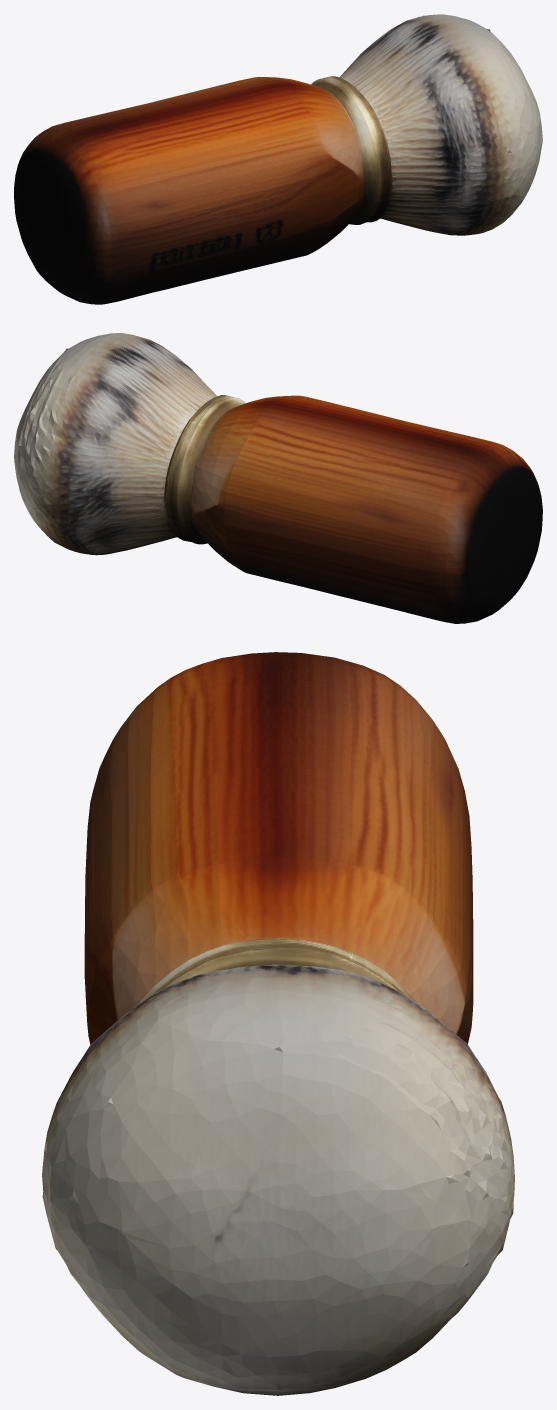
The model's file is wooden-shaving-brush-handle-futuristic.jpeg.glb.
3 views of the same model, one above another, from view 1: azimuth 30°, elevation 25°; view 2: azimuth 150°, elevation 25°; view 3: azimuth 270°, elevation 25° (orthographic). The views are drawn at different scales.
Parts seen in each view (by area): view 1: world; view 2: world; view 3: world.
Boxes of the visible parts, left/top/right/bottom form: world: left=14, top=14, right=542, bottom=304; world: left=14, top=333, right=542, bottom=623; world: left=42, top=652, right=514, bottom=1395.
Size of the model in its own units: 0.9984 by 0.4014 by 0.4315.
Materials: 1 (1 with a texture image).
